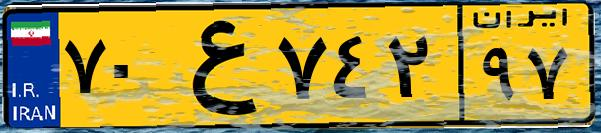0: (110, 28, 158, 98)
2: (385, 28, 445, 110)
4: (330, 28, 385, 110)
7: (270, 28, 330, 110), (57, 26, 110, 100), (525, 38, 570, 115)
9: (475, 38, 525, 113)
ع: (158, 12, 270, 120)
